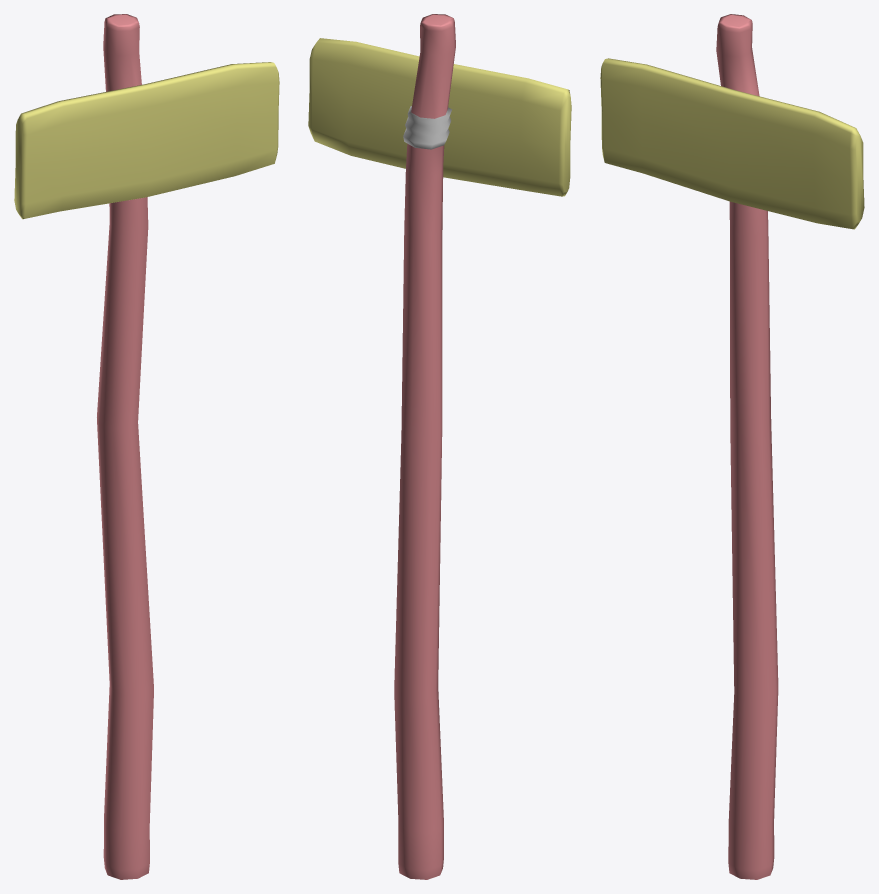
The model's file is streetSign.fbx.
3 renders of one model, left to right at view 1: azimuth 30°, elevation 25°; view 2: azimuth 150°, elevation 25°; view 3: azimuth 330°, elevation 25°, orthographic.
Visible parts, largest first — view 1: Cube, Cube.001; view 2: Cube, Cube.001; view 3: Cube, Cube.001.
Part boxes in pixels (left/top/right/bottom): Cube: left=97, top=14, right=153, bottom=879; Cube.001: left=14, top=62, right=279, bottom=219; Cube: left=394, top=14, right=455, bottom=879; Cube.001: left=308, top=38, right=571, bottom=196; Cube: left=716, top=14, right=778, bottom=879; Cube.001: left=600, top=58, right=864, bottom=229.
Bounding box in the file's own units: 144 × 462 × 39.4.
